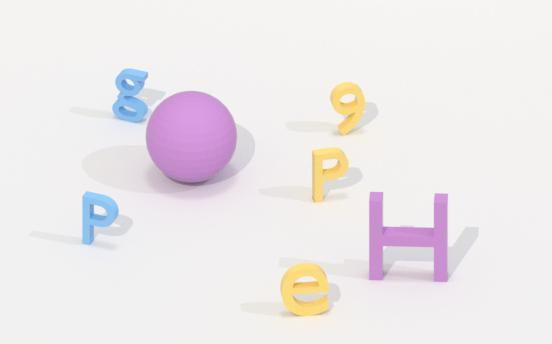chu_khoi: (369, 192, 448, 281), (280, 263, 328, 315), (312, 147, 348, 201), (112, 68, 147, 122), (82, 192, 118, 244)
hinh_cau: (146, 91, 236, 183)
so_khoi: (330, 82, 365, 134)
